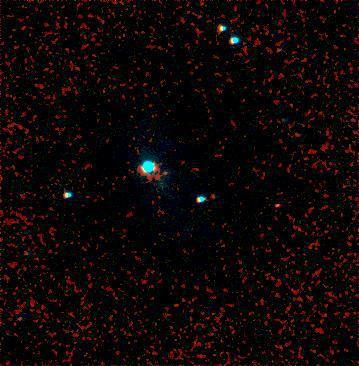star: (265, 190, 295, 220)
